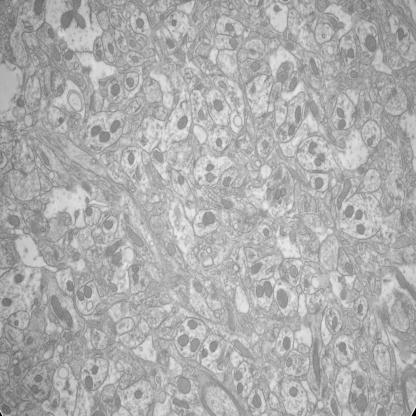mitochondria: (60, 1, 86, 32), (311, 338, 323, 390), (334, 178, 352, 211), (124, 226, 145, 248), (232, 338, 253, 360), (50, 293, 66, 320), (175, 376, 192, 395), (276, 287, 289, 310), (364, 32, 378, 53), (164, 239, 178, 259), (248, 259, 264, 276), (62, 306, 74, 328), (355, 393, 368, 413), (173, 396, 190, 411), (328, 396, 340, 416), (202, 210, 216, 227), (309, 57, 321, 76), (262, 280, 274, 299), (189, 336, 201, 354), (37, 149, 49, 167), (50, 44, 61, 63), (89, 124, 103, 138), (177, 333, 190, 348), (177, 115, 189, 131), (192, 278, 204, 294), (252, 393, 263, 410), (34, 0, 45, 17), (294, 103, 302, 126), (344, 204, 356, 219), (313, 176, 325, 191), (307, 140, 319, 155), (208, 339, 220, 354), (288, 76, 299, 92), (83, 375, 94, 391), (152, 149, 164, 163), (110, 83, 122, 97), (99, 130, 111, 144), (7, 215, 21, 227), (288, 264, 300, 278), (233, 367, 244, 382), (230, 36, 240, 52), (255, 283, 265, 299), (330, 314, 340, 330), (335, 118, 347, 131), (249, 60, 261, 73), (286, 387, 299, 399), (354, 376, 366, 389), (110, 120, 121, 134), (1, 402, 12, 416), (344, 260, 353, 276), (225, 22, 237, 34), (282, 335, 291, 351), (213, 99, 224, 112), (108, 281, 119, 294), (356, 223, 366, 237), (346, 47, 356, 61), (286, 122, 296, 136), (176, 173, 186, 187), (134, 16, 144, 30), (47, 26, 56, 41), (13, 365, 22, 380), (200, 347, 211, 359), (187, 319, 199, 330), (354, 209, 364, 222), (277, 71, 290, 81), (222, 175, 232, 188), (83, 286, 93, 299), (397, 26, 405, 42), (214, 135, 223, 149), (335, 107, 346, 118), (1, 297, 12, 308), (29, 384, 40, 395), (205, 172, 215, 184), (65, 280, 75, 292), (104, 219, 114, 231), (165, 38, 175, 50), (89, 365, 101, 375), (134, 388, 144, 400), (338, 342, 348, 354), (107, 42, 115, 56), (406, 208, 414, 222), (205, 162, 216, 172), (318, 152, 327, 164), (76, 289, 85, 301), (216, 80, 228, 89), (198, 109, 206, 122), (236, 382, 244, 395), (280, 187, 288, 200), (72, 251, 82, 261), (349, 70, 359, 80), (126, 77, 135, 88), (64, 51, 73, 62), (33, 373, 44, 382), (286, 357, 294, 369), (273, 188, 281, 200), (131, 273, 140, 283), (14, 274, 23, 284), (356, 303, 364, 314), (130, 264, 141, 272), (170, 18, 178, 29), (96, 49, 104, 60), (128, 151, 134, 165), (366, 137, 374, 147), (272, 4, 280, 14), (85, 206, 93, 216), (128, 39, 136, 49), (131, 54, 139, 64), (68, 230, 74, 243), (313, 158, 321, 167), (262, 228, 270, 237), (266, 186, 271, 196)
